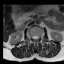CCS_normal: (34, 33, 36, 42)
LFS_normal: (38, 34, 40, 40)
LLS_normal: (36, 34, 38, 40)
RFS_normal: (31, 33, 32, 40)
RLS_normal: (32, 33, 34, 41)
